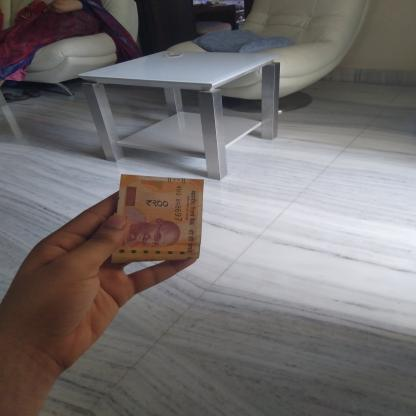New200Front: (118, 178, 201, 262)
